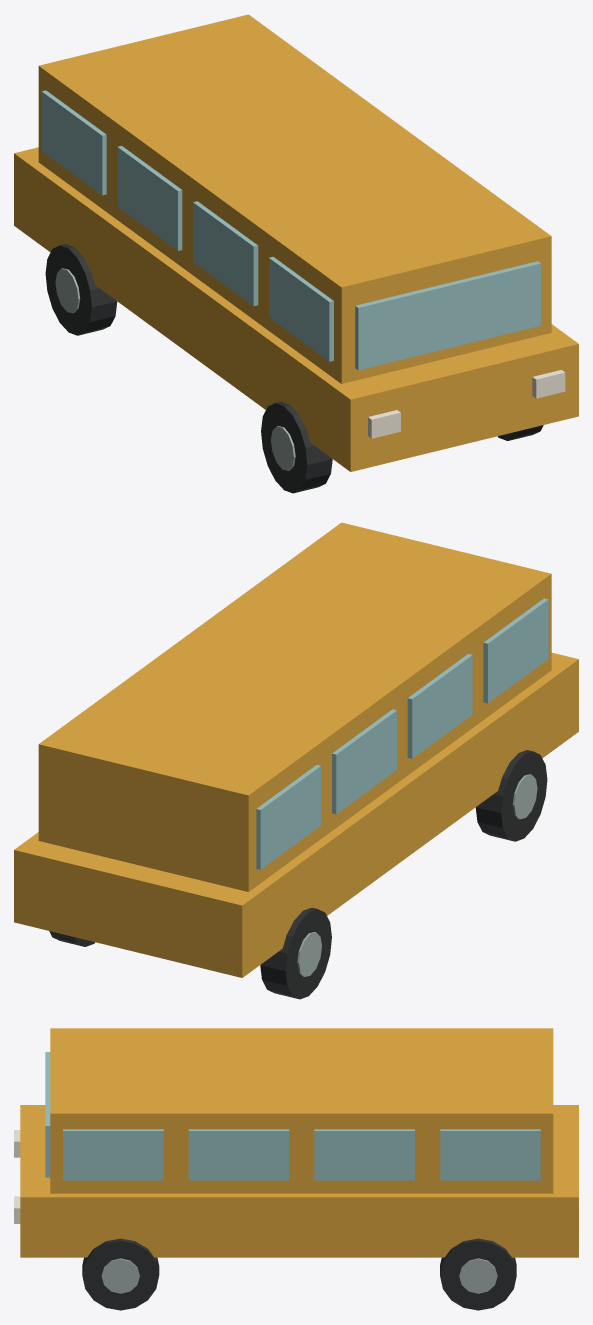
Rendered from 015_school_minibus.glb.
3 renders of one model, top to bottom at view 1: azimuth 30°, elevation 25°; view 2: azimuth 150°, elevation 25°; view 3: azimuth 270°, elevation 25°, orthographic. The views are drawn at different scales.
Parts seen in each view (by area): view 1: School minibus; view 2: School minibus; view 3: School minibus.
Part boxes in pixels (<box>): School minibus: <box>14,14,578,493</box>; School minibus: <box>14,522,578,999</box>; School minibus: <box>14,1028,578,1310</box>.
Bounding box in the file's own units: 2.01 × 1.81 × 4.85.
